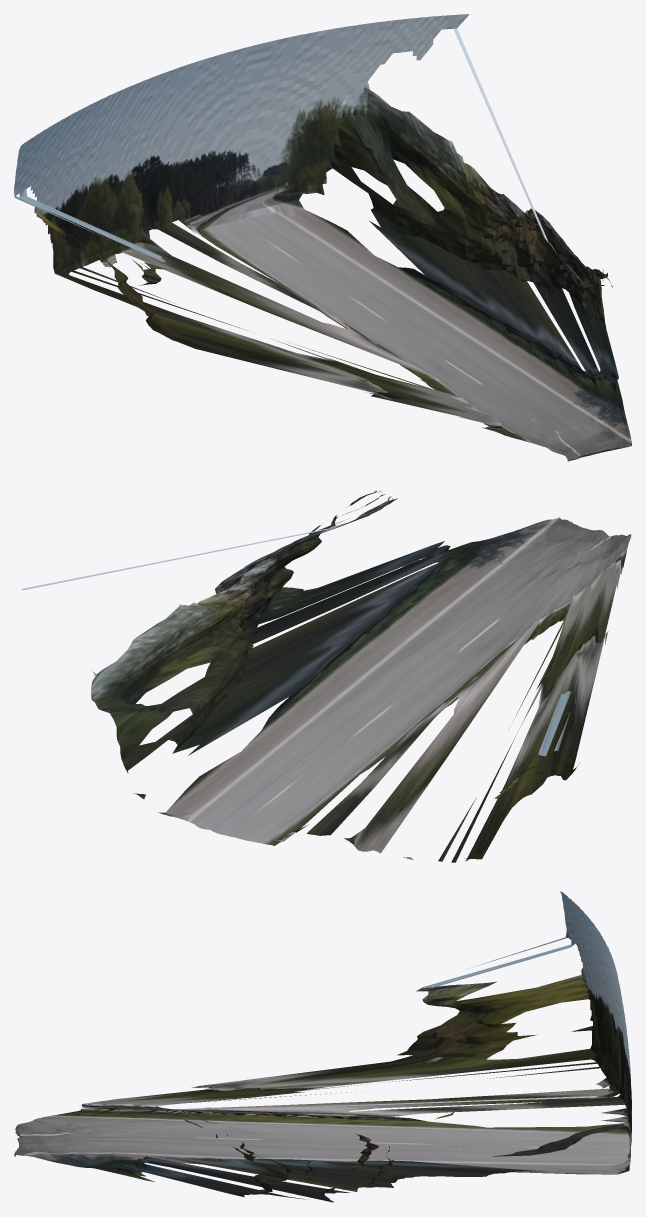
The picture shows the model from 3 angles, top to bottom: view 1: azimuth 30°, elevation 25°; view 2: azimuth 150°, elevation 25°; view 3: azimuth 270°, elevation 25°; orthographic projection. The views are drawn at different scales.
Parts seen in each view (by area): view 1: defaultobject; view 2: defaultobject; view 3: defaultobject.
Boxes of the visible parts, x1=… form: defaultobject: x1=14, y1=14, x2=631, y2=461; defaultobject: x1=21, y1=490, x2=631, y2=862; defaultobject: x1=14, y1=891, x2=631, y2=1202.
Bounding box in the file's own units: 34.77 × 12.47 × 44.55.
Materials: 1 (1 with a texture image).
